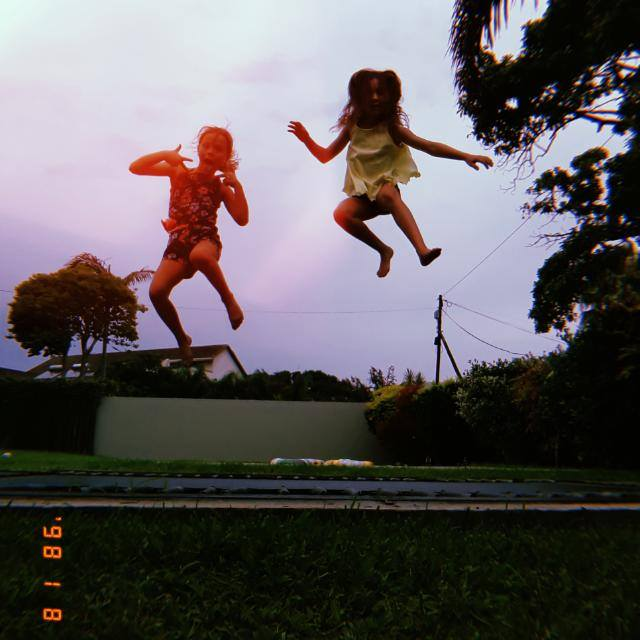Person: (282, 66, 499, 291), (118, 119, 253, 372)
